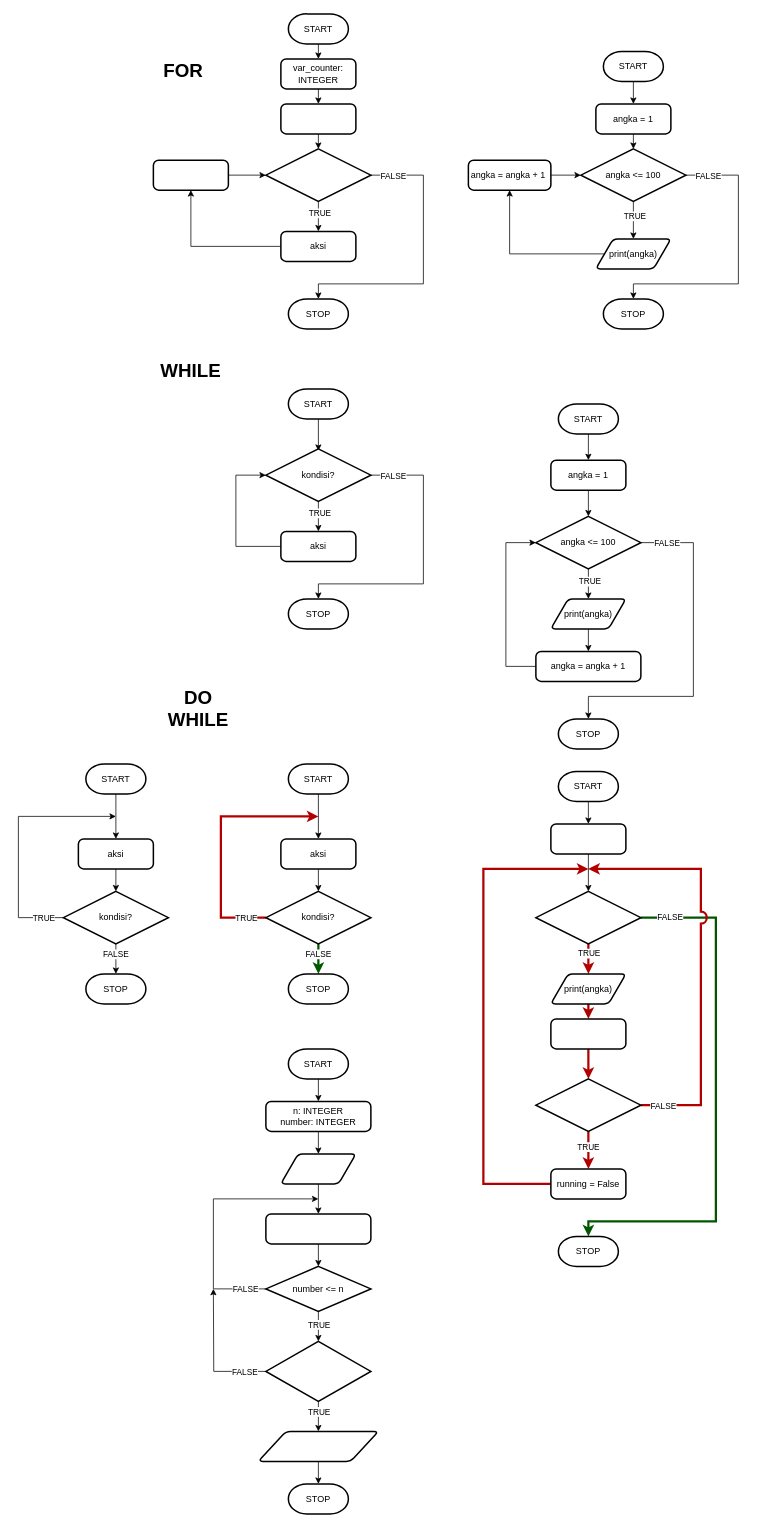
Image size: 758x1527. Some labels were removed from this diagram. Each missing label, with the box of its shape:
angka += 1: (550, 1018, 626, 1049)
angka > 100: (535, 1078, 641, 1132)
number % 2 == 1: (265, 1340, 371, 1402)
number = 1: (265, 1213, 371, 1244)
PRINT number: (257, 1430, 379, 1462)
READ n: (280, 1153, 356, 1184)
running = True angka = 1: (550, 823, 626, 854)
running?: (535, 890, 641, 944)
var_counter <= nilai_akhir: (265, 148, 371, 202)
var_counter = nilai_awal: (280, 103, 356, 134)
var_counter = var_counter + 1: (152, 159, 229, 190)
